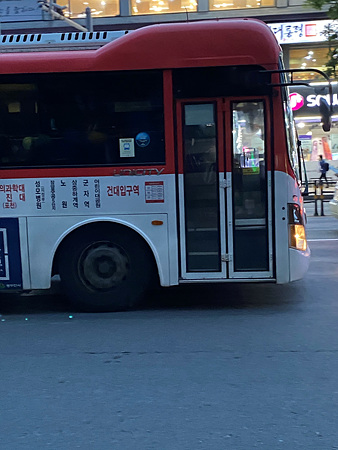entrance: (176, 77, 279, 291)
